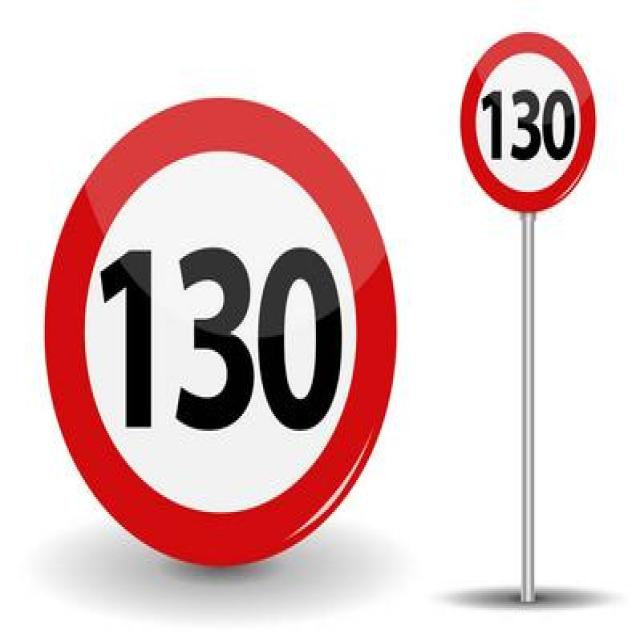speed limit 130: (47, 98, 398, 573), (458, 33, 596, 215)
